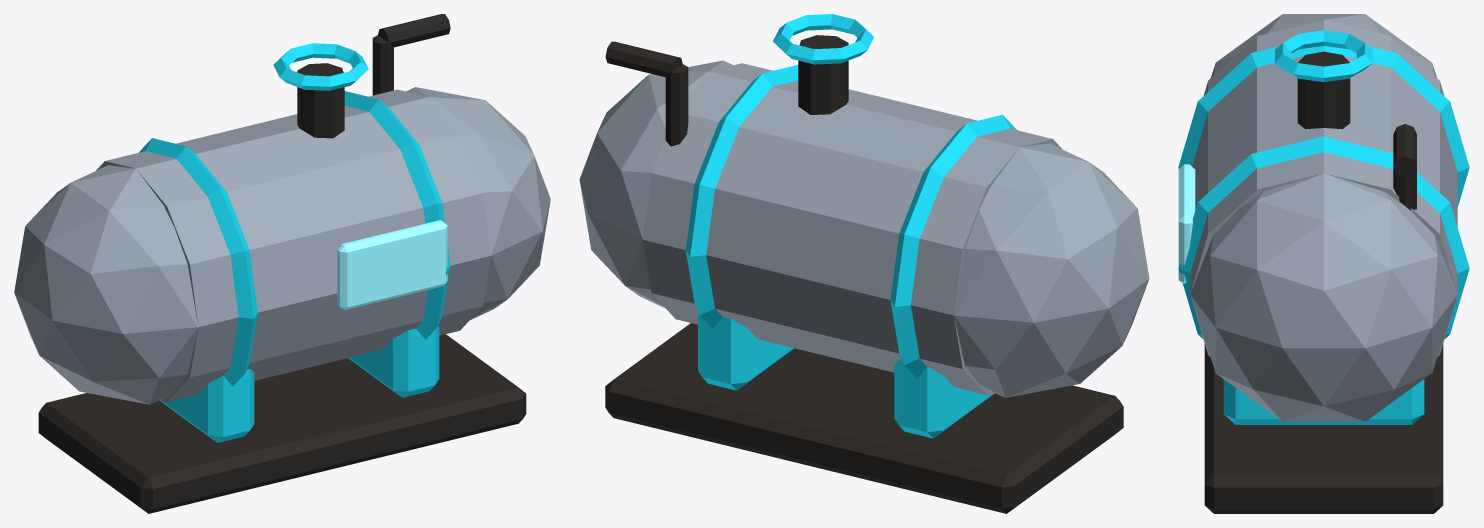
The model's file is lng.glb.
3 views of the same model, side by side, from view 1: azimuth 30°, elevation 25°; view 2: azimuth 150°, elevation 25°; view 3: azimuth 270°, elevation 25° (orthographic). The views are drawn at different scales.
Visible parts, largest first — view 1: lng-horizontal-tank, lng-black-skid, lng-left-dome, lng-right-dome, lng-frost-patch, lng-left-cyan-band, lng-right-cyan-band, lng-right-saddle, lng-left-saddle, lng-top-valve, lng-valve-wheel, lng-pipe-outlet (+1 smaller); view 2: lng-horizontal-tank, lng-black-skid, lng-left-dome, lng-right-dome, lng-left-cyan-band, lng-right-cyan-band, lng-left-saddle, lng-right-saddle, lng-top-valve, lng-valve-wheel, lng-pipe-rise, lng-pipe-outlet; view 3: lng-right-dome, lng-horizontal-tank, lng-black-skid, lng-right-cyan-band, lng-left-cyan-band, lng-right-saddle, lng-top-valve, lng-valve-wheel, lng-left-dome, lng-frost-patch, lng-pipe-outlet, lng-pipe-rise.
Part boxes in pixels (left/top/right/bottom): lng-horizontal-tank: left=96, top=89, right=491, bottom=401; lng-black-skid: left=38, top=334, right=526, bottom=513; lng-left-dome: left=14, top=165, right=198, bottom=404; lng-right-dome: left=406, top=87, right=550, bottom=320; lng-frost-patch: left=337, top=220, right=447, bottom=310; lng-left-cyan-band: left=139, top=138, right=257, bottom=386; lng-right-cyan-band: left=344, top=91, right=450, bottom=339; lng-right-saddle: left=348, top=326, right=439, bottom=397; lng-left-saddle: left=160, top=369, right=254, bottom=442; lng-top-valve: left=297, top=63, right=344, bottom=138; lng-valve-wheel: left=273, top=43, right=368, bottom=90; lng-pipe-outlet: left=378, top=14, right=450, bottom=47; lng-horizontal-tank: left=642, top=63, right=1061, bottom=394; lng-black-skid: left=605, top=323, right=1123, bottom=513; lng-left-dome: left=954, top=143, right=1149, bottom=397; lng-right-dome: left=579, top=60, right=732, bottom=308; lng-left-cyan-band: left=890, top=114, right=1016, bottom=378; lng-right-cyan-band: left=685, top=65, right=798, bottom=328; lng-left-saddle: left=894, top=360, right=994, bottom=438; lng-right-saddle: left=698, top=314, right=793, bottom=390; lng-top-valve: left=798, top=35, right=848, bottom=114; lng-valve-wheel: left=773, top=14, right=873, bottom=64; lng-pipe-rise: left=665, top=64, right=688, bottom=146; lng-pipe-outlet: left=605, top=41, right=682, bottom=77; lng-right-dome: left=1190, top=173, right=1457, bottom=421; lng-horizontal-tank: left=1190, top=20, right=1457, bottom=356; lng-black-skid: left=1204, top=344, right=1443, bottom=513; lng-right-cyan-band: left=1178, top=136, right=1469, bottom=338; lng-left-cyan-band: left=1178, top=46, right=1469, bottom=207; lng-right-saddle: left=1223, top=379, right=1424, bottom=424; lng-top-valve: left=1297, top=51, right=1350, bottom=129; lng-valve-wheel: left=1275, top=30, right=1372, bottom=81; lng-left-dome: left=1211, top=14, right=1436, bottom=77; lng-frost-patch: left=1178, top=164, right=1195, bottom=283; lng-pipe-outlet: left=1393, top=124, right=1416, bottom=177; lng-pipe-rise: left=1393, top=168, right=1416, bottom=210.
Size of the model in its own units: 1.44 by 1 by 0.6793.
